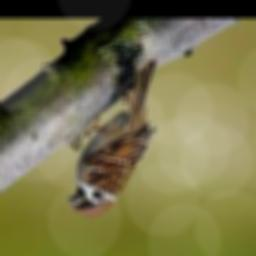Sparrow: (69, 60, 156, 216)
